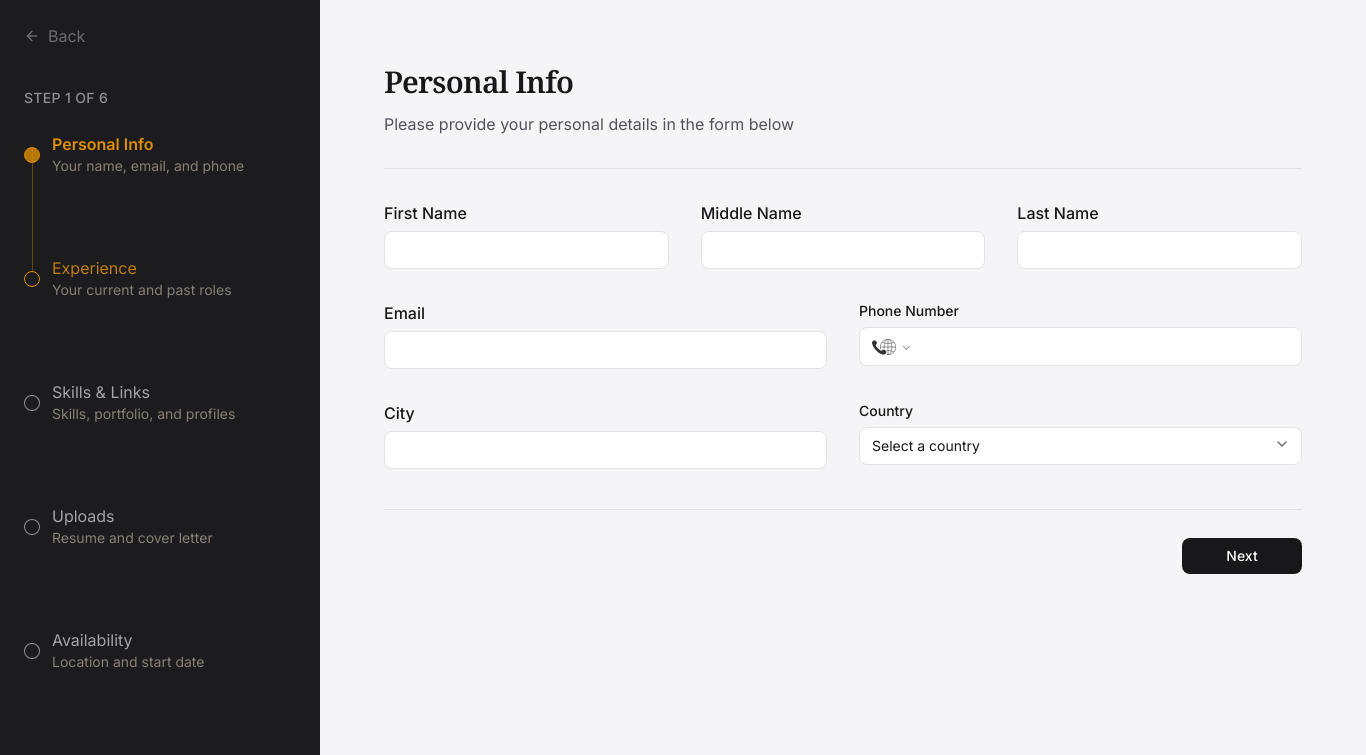
Test: Unsaved changes modal › blocks sidebar navigation when the current step is dirty, and shows the modal
Type "Jane" into the field labelled "First Name".
click(526, 250); type("Jane")  # box top-left (384, 231), bottom-right (669, 269)
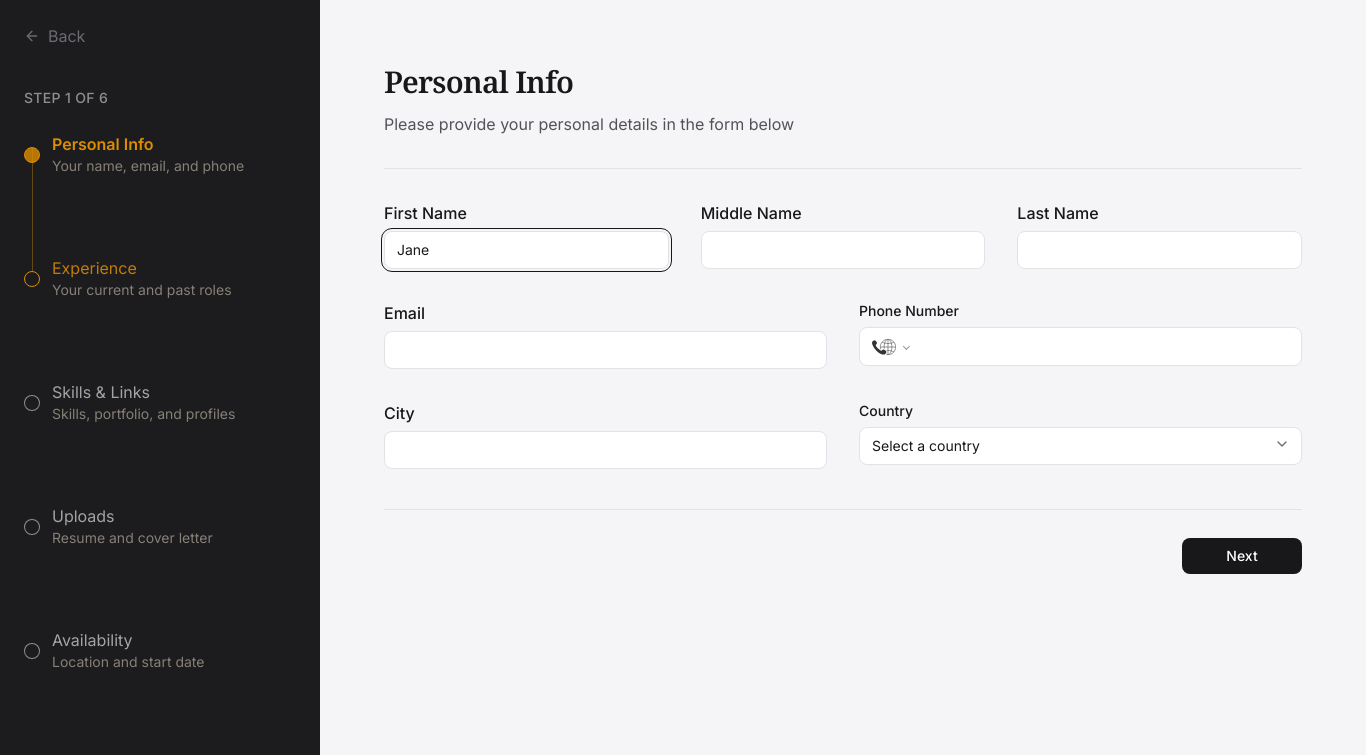
Click the link "Experience Your current and past roles".
click(128, 278)  # box top-left (24, 258), bottom-right (232, 298)
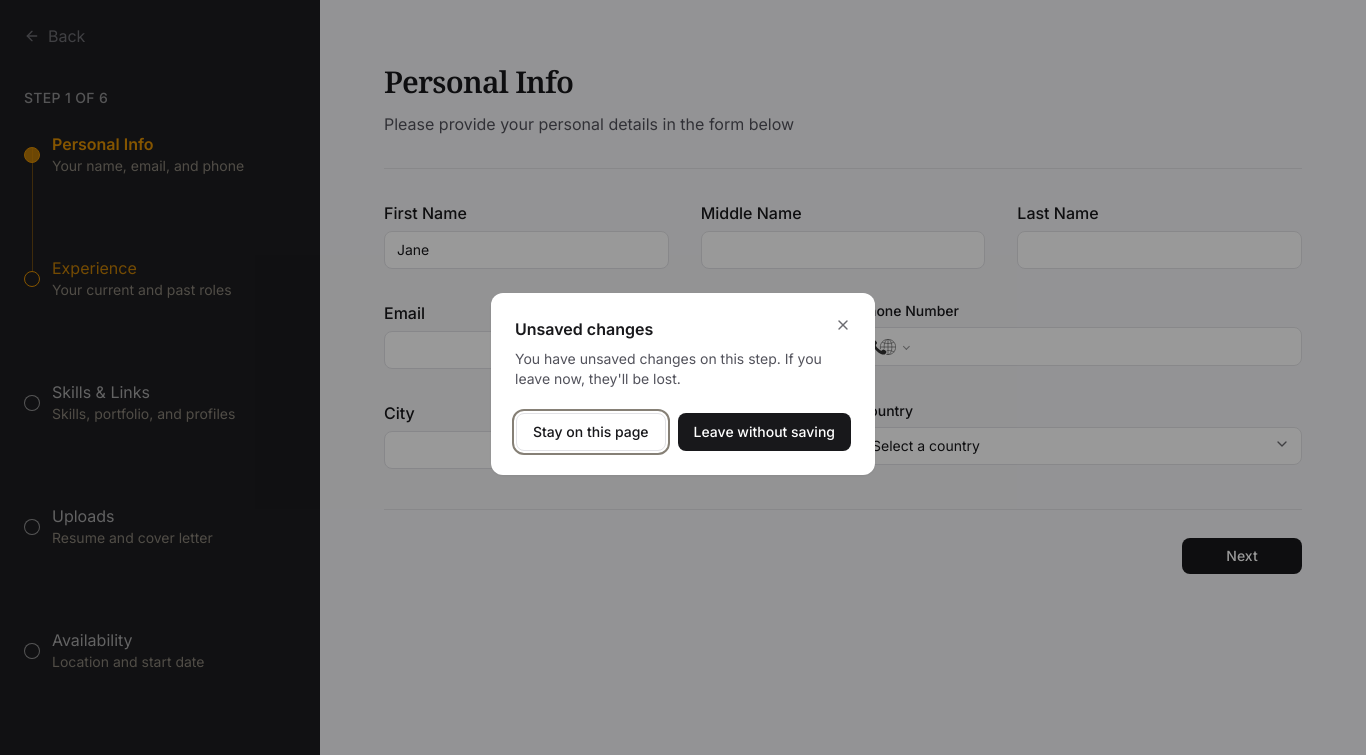
Result: the dialog is shown at top-left (491, 293), bottom-right (875, 475)
Result: the heading "Unsaved changes" is shown at top-left (515, 317), bottom-right (653, 341)
